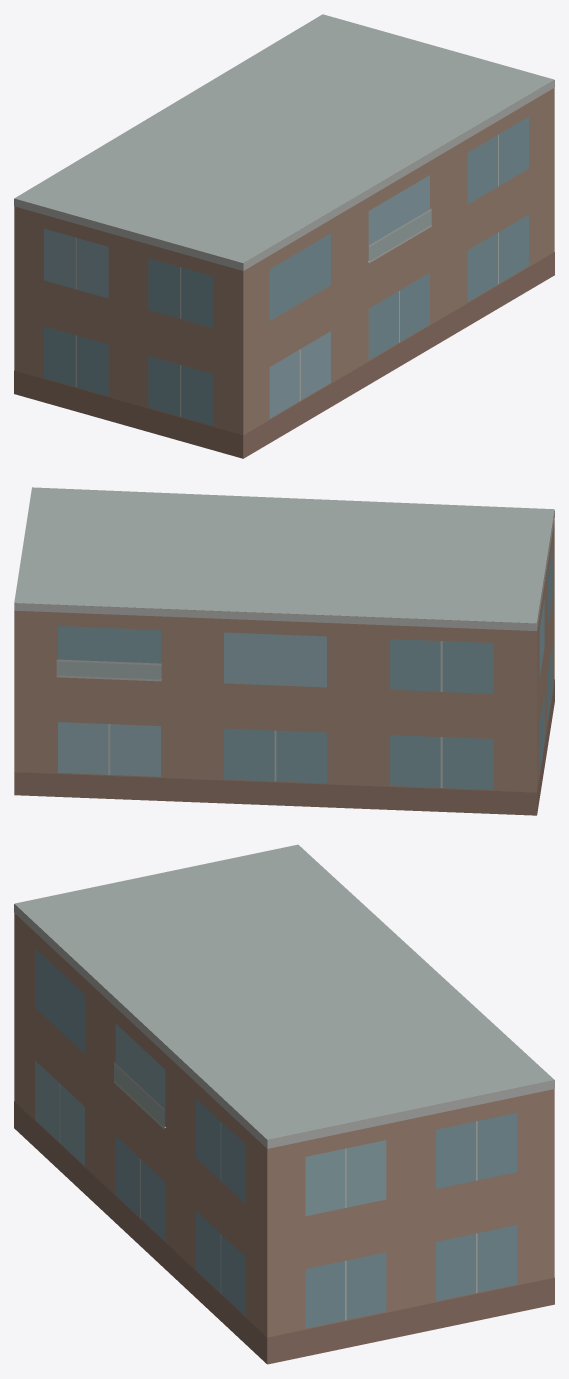
File: survey-upis-32885637.glb
The picture shows the model from 3 angles, top to bottom: view 1: azimuth 30°, elevation 25°; view 2: azimuth 150°, elevation 25°; view 3: azimuth 270°, elevation 25°; orthographic projection. The views are drawn at different scales.
Parts seen in each view (by area): view 1: survey-upis-32885637.tmp; view 2: survey-upis-32885637.tmp; view 3: survey-upis-32885637.tmp.
Boxes of the visible parts, <box> form: survey-upis-32885637.tmp: <box>14,14,554,458</box>; survey-upis-32885637.tmp: <box>14,487,554,815</box>; survey-upis-32885637.tmp: <box>14,844,554,1364</box>.
Size of the model in its own units: 17.23 by 6.1 by 13.32.
